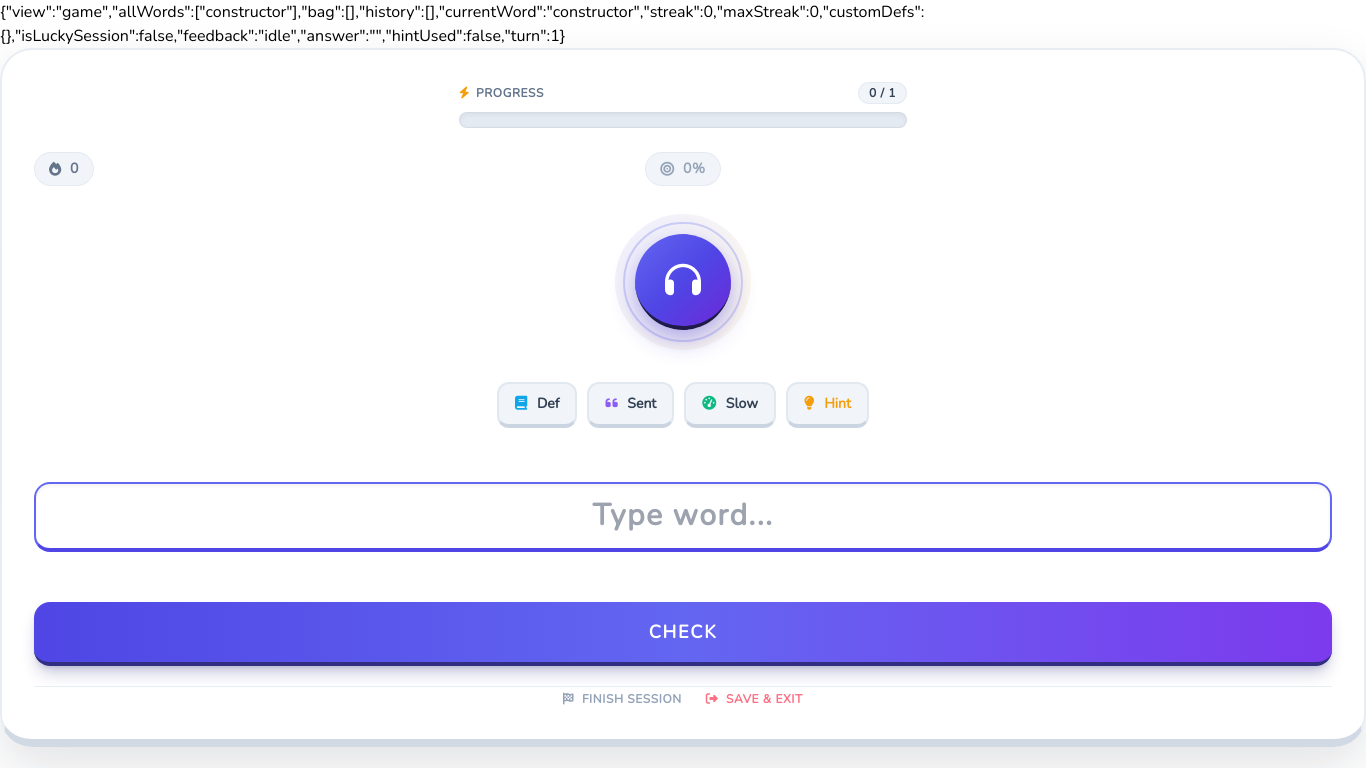
Scenario: game UI under StrictMode › handles Object.prototype words like constructor without crashing
This screenshot has width=1366, height=768.
Click the button "Def".
click(537, 405)  # box [497,382,578,428]
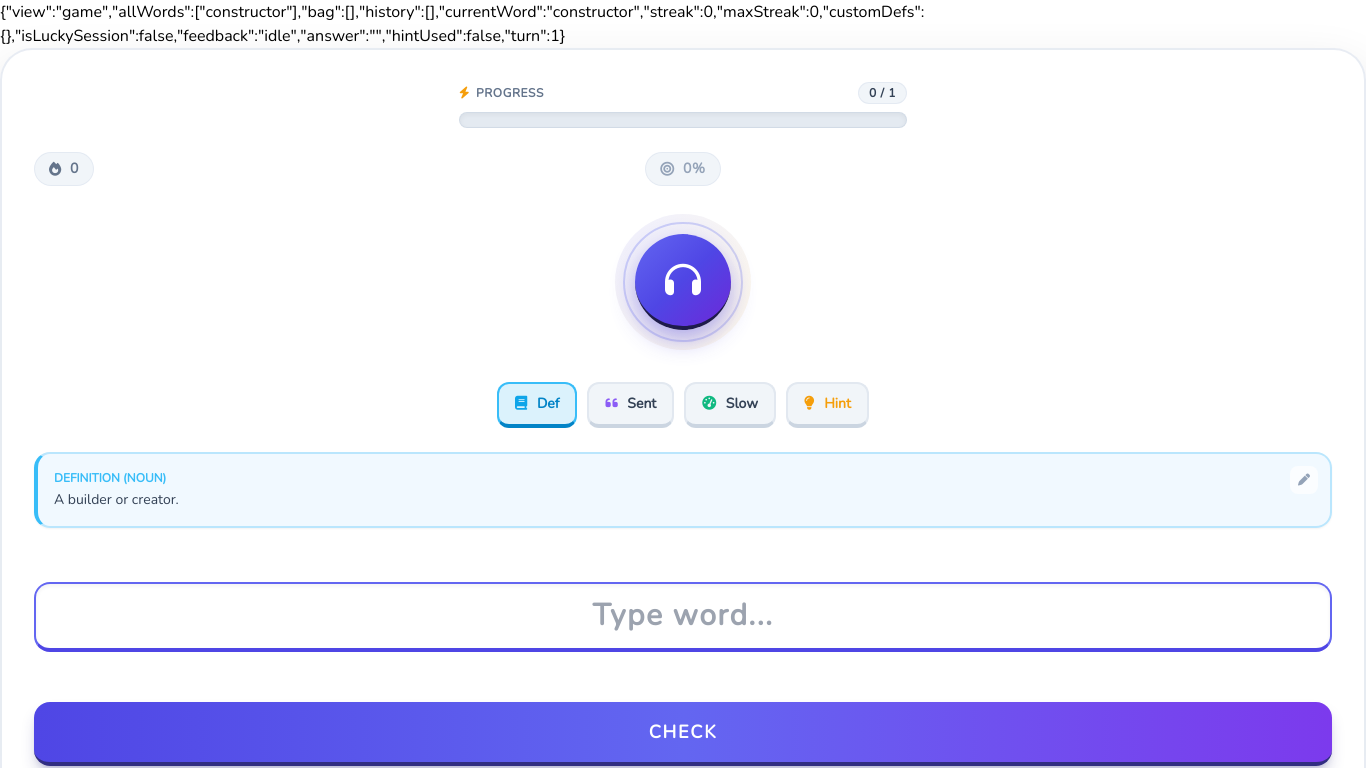
Check: the text "A builder or creator." is shown, box [54,490,179,509]
